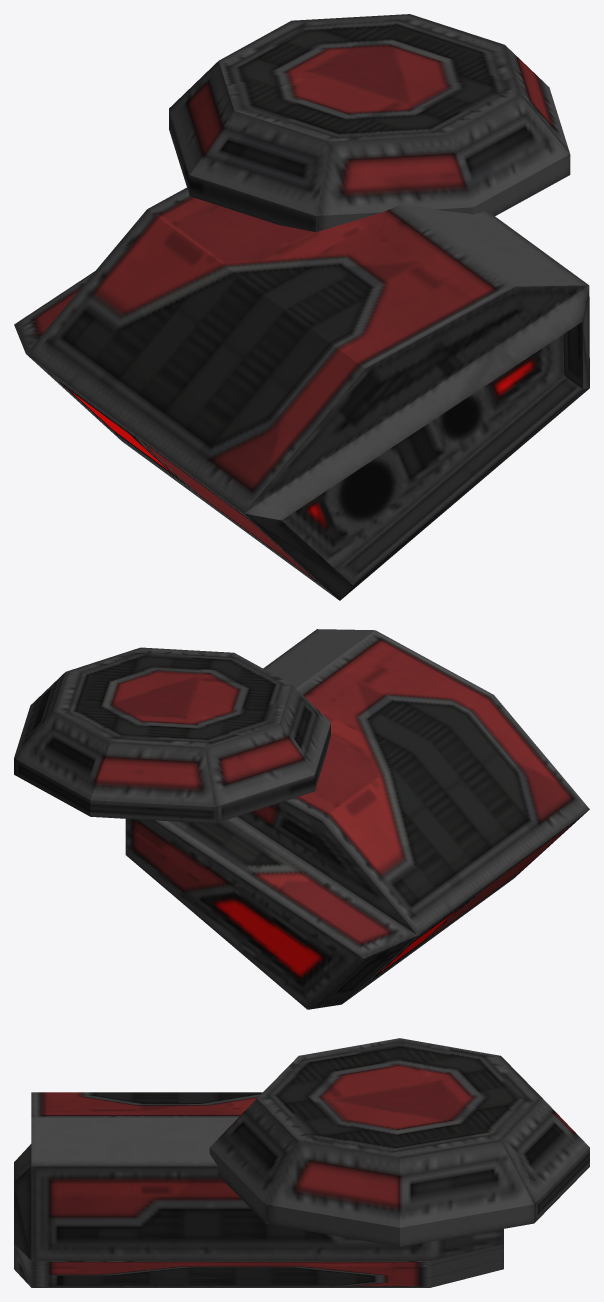
The model's file is BFP_MissileLauncher_01_Right.FBX.
3 renders of one model, top to bottom at view 1: azimuth 30°, elevation 25°; view 2: azimuth 150°, elevation 25°; view 3: azimuth 270°, elevation 25°, orthographic. The views are drawn at different scales.
Visible parts, largest first — view 1: BFP_MissileLauncher_01_Right; view 2: BFP_MissileLauncher_01_Right; view 3: BFP_MissileLauncher_01_Right.
Part boxes in pixels (box(x1,y1,x2,y2)): BFP_MissileLauncher_01_Right: box(14, 14, 589, 600); BFP_MissileLauncher_01_Right: box(14, 629, 589, 1009); BFP_MissileLauncher_01_Right: box(14, 1038, 589, 1287).
Bounding box in the file's own units: 134 × 80.77 × 144.
1 material, 1 textured.
